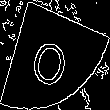O_N: (32, 23, 78, 87)
